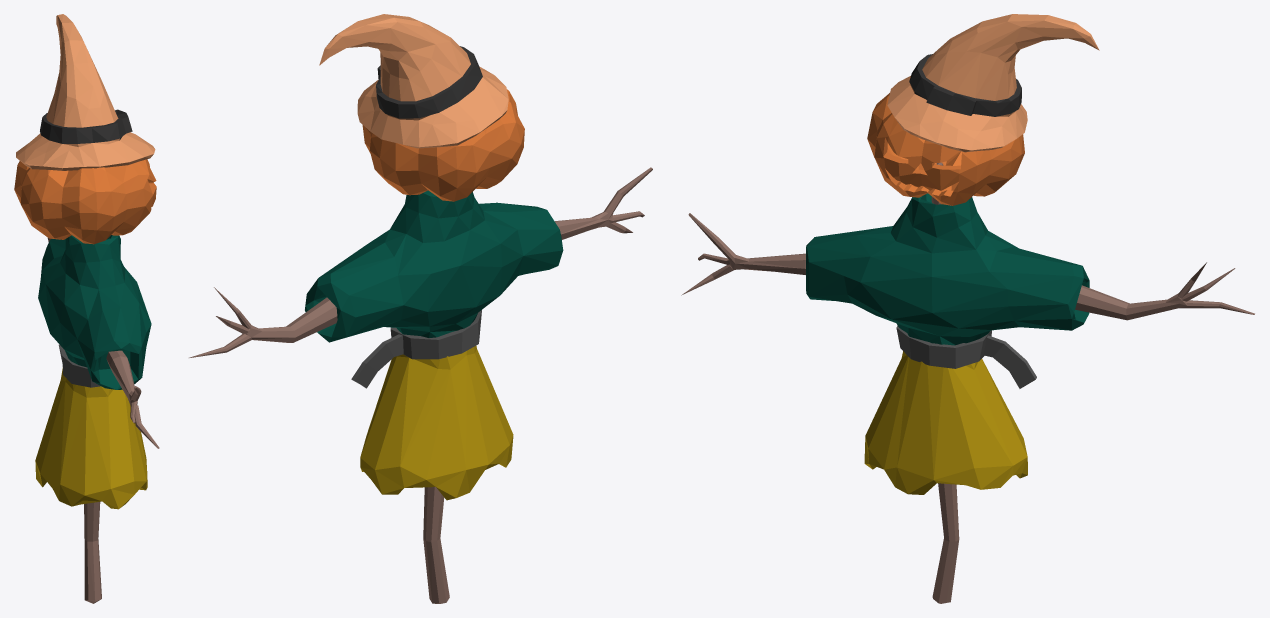
File: Espantalho.glb
3 views of the same model, side by side, from view 1: azimuth 30°, elevation 25°; view 2: azimuth 150°, elevation 25°; view 3: azimuth 270°, elevation 25° (orthographic). The views are drawn at different scales.
Visible parts, largest first — view 1: Plane; view 2: Plane; view 3: Plane.
Boxes of the visible parts, box(x1,y1,x2,y2) form: Plane: box(14, 14, 159, 603); Plane: box(189, 14, 652, 603); Plane: box(681, 14, 1254, 603).
Bounding box in the file's own units: 1.3 × 4.37 × 3.8.
1 material, 1 textured.
